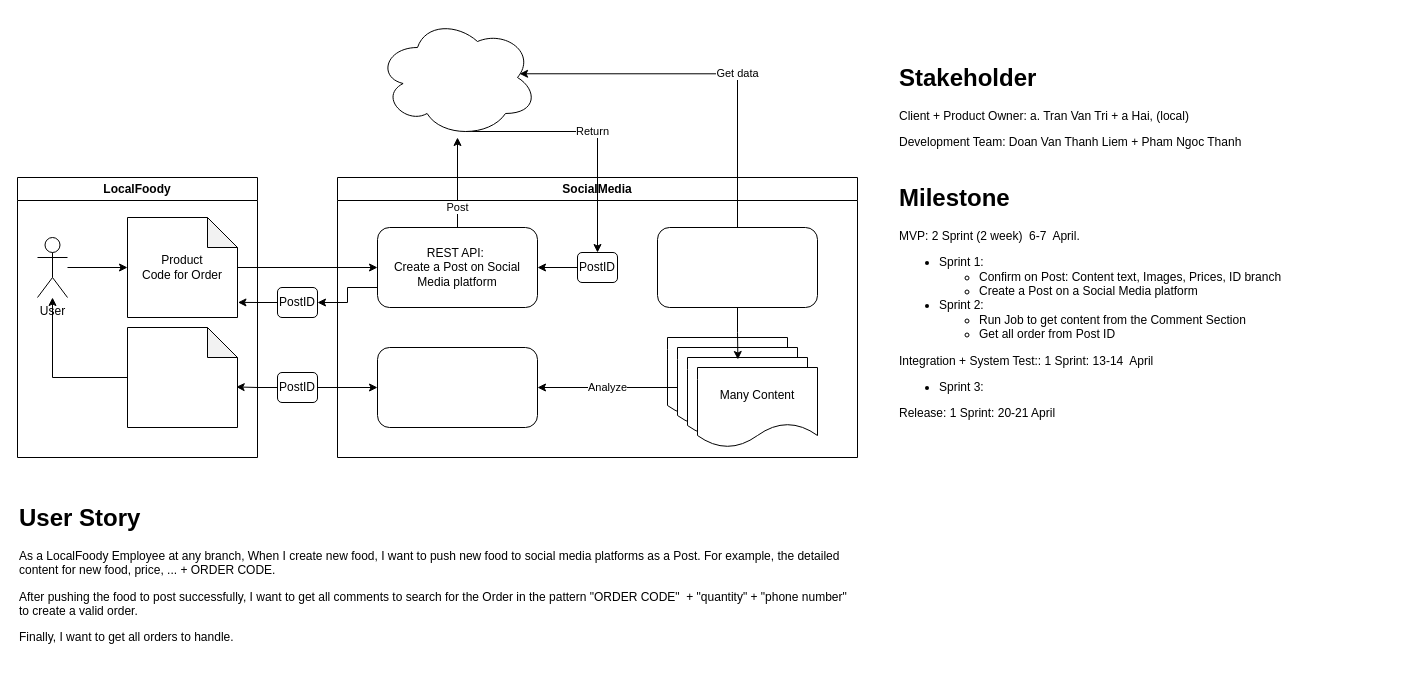
Some shapes in this 1405 by 678 pixel diagram are drawn without their labels. The centre of each missing label's shape, as x and y in pixels:
Orders from Post: [182,377]
REST API: Get all order from Post ID: [457,387]
Run Job to get content from Comment Section: [737,267]
Social Media (FB, X, ...): [457,77]
